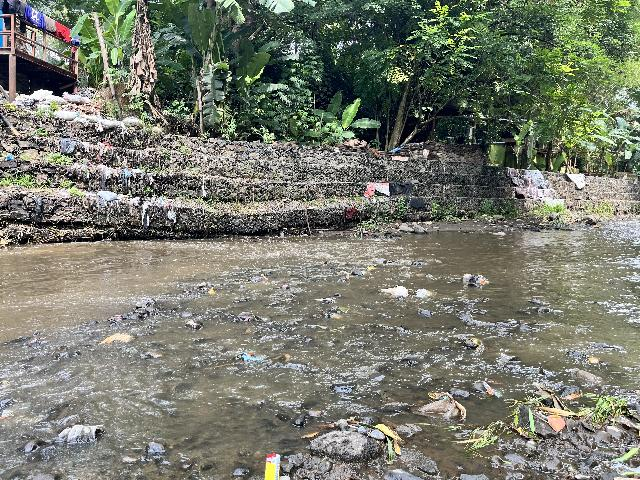Sampah Anorganik: (421, 387, 468, 425), (461, 267, 491, 291), (264, 452, 281, 480), (378, 284, 408, 298), (482, 380, 502, 400), (237, 350, 266, 363), (415, 286, 433, 300), (2, 406, 16, 420), (314, 297, 336, 305), (365, 265, 376, 274)
Sampah Organik: (516, 386, 640, 480), (359, 417, 405, 462), (455, 424, 514, 452), (98, 335, 133, 344), (466, 336, 485, 351), (314, 419, 336, 429), (301, 430, 321, 440), (243, 313, 257, 323), (275, 354, 292, 362), (328, 311, 341, 321), (106, 315, 123, 322), (588, 355, 599, 365), (337, 306, 349, 315), (259, 273, 268, 281), (208, 286, 216, 295), (183, 291, 189, 297), (346, 274, 349, 278)
